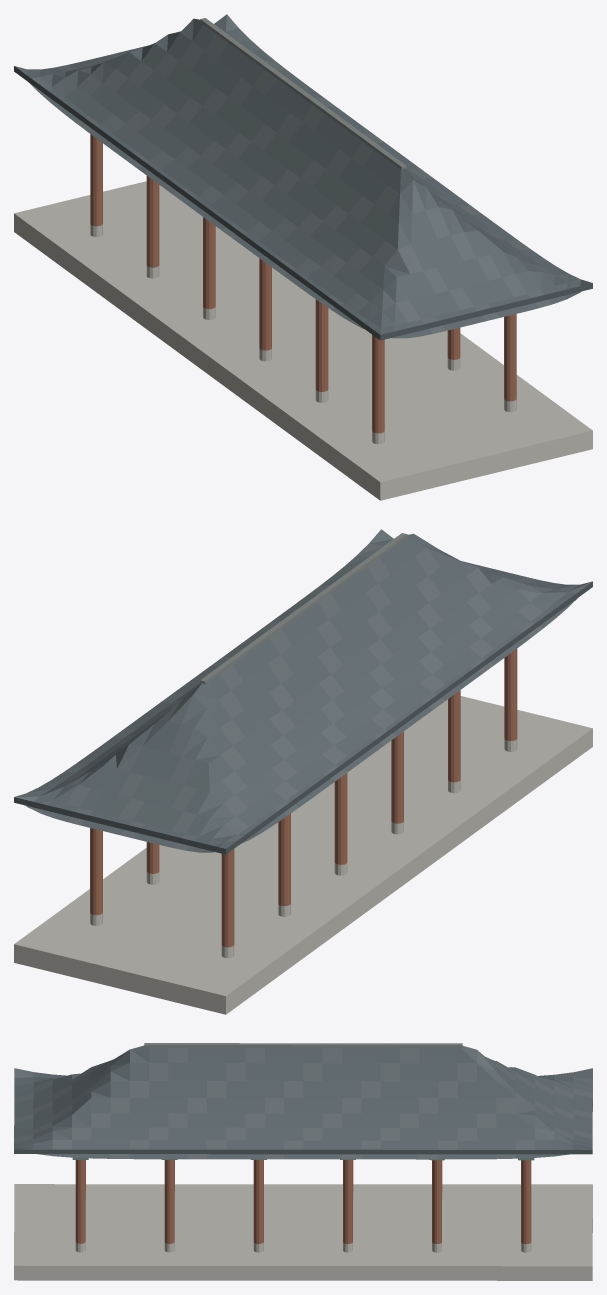
The model's file is civic-4475c970-c3d0-45fc-a30c-196407fd992c.glb.
The picture shows the model from 3 angles, top to bottom: view 1: azimuth 30°, elevation 25°; view 2: azimuth 150°, elevation 25°; view 3: azimuth 270°, elevation 25°; orthographic projection. The views are drawn at different scales.
Parts seen in each view (by area): view 1: civic-4475c970-c3d0-45fc-a30c-196407fd992c; view 2: civic-4475c970-c3d0-45fc-a30c-196407fd992c; view 3: civic-4475c970-c3d0-45fc-a30c-196407fd992c.
Part boxes in pixels (bbox=[...]): civic-4475c970-c3d0-45fc-a30c-196407fd992c: bbox=[14, 14, 592, 500]; civic-4475c970-c3d0-45fc-a30c-196407fd992c: bbox=[14, 529, 592, 1014]; civic-4475c970-c3d0-45fc-a30c-196407fd992c: bbox=[14, 1043, 592, 1280].
Bounding box in the file's own units: 5.4 × 6 × 16.1.
